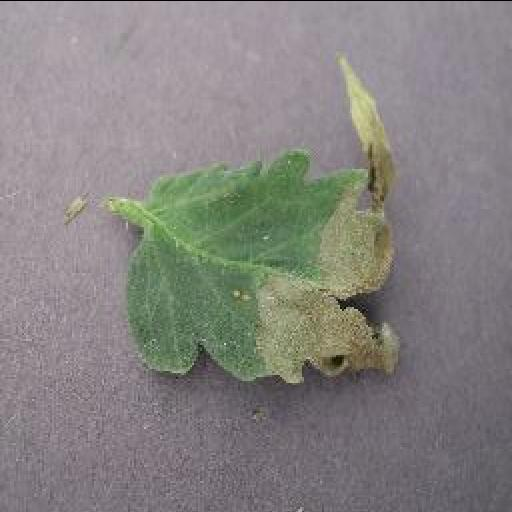disease_tomato: (122, 57, 406, 387)
